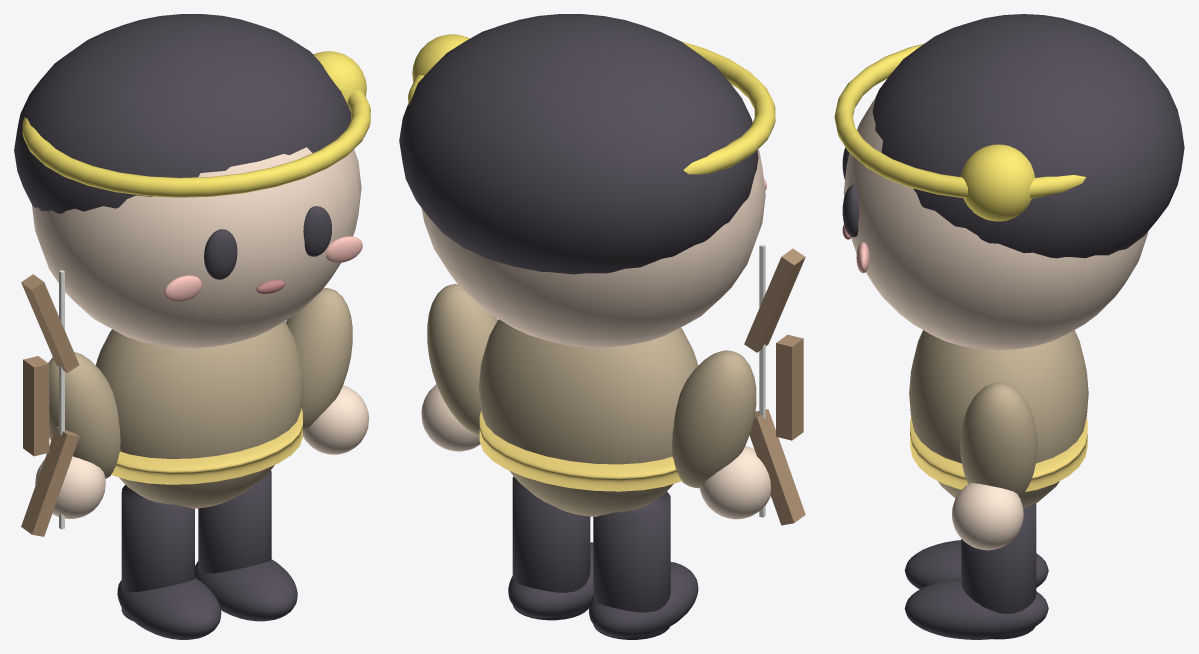
File: yt_archer.fbx
3 views of the same model, side by side, from view 1: azimuth 30°, elevation 25°; view 2: azimuth 150°, elevation 25°; view 3: azimuth 270°, elevation 25° (orthographic). The views are drawn at different scales.
Parts seen in each view (by area): view 1: hair, head_mesh, body, band, leg, arm_mesh, arm_mesh.001, leg.001, belt, shoe, shoe.001, hand_mesh (+10 smaller); view 2: hair, body, head_mesh, arm_mesh.001, leg, leg.001, arm_mesh, belt, band, hand_mesh.001, shoe, wp_bow_bot (+6 smaller); view 3: hair, head_mesh, body, arm_mesh, band, leg.001, shoe.001, knot, hand_mesh, belt, shoe, eye.001.
Boxes of the visible parts, box(x1,y1,x2,y2) form: hair: box(14, 14, 350, 213); head_mesh: box(32, 147, 361, 348); body: box(95, 321, 303, 508); band: box(22, 89, 370, 197); leg: box(121, 485, 194, 621); arm_mesh: box(285, 288, 352, 431); arm_mesh.001: box(48, 352, 120, 478); leg.001: box(198, 470, 271, 573); belt: box(111, 408, 302, 484); shoe: box(117, 578, 221, 639); shoe.001: box(195, 559, 297, 621); hand_mesh: box(303, 385, 368, 454); hair: box(399, 14, 758, 274); body: box(478, 319, 698, 516); head_mesh: box(421, 149, 765, 347); arm_mesh.001: box(672, 350, 756, 488); leg: box(593, 492, 670, 639); leg.001: box(512, 476, 590, 620); arm_mesh: box(427, 284, 497, 435); belt: box(479, 411, 681, 491); band: box(408, 41, 775, 174); hand_mesh.001: box(700, 446, 770, 519); shoe: box(589, 562, 698, 637); wp_bow_bot: box(749, 409, 805, 525); hair: box(872, 14, 1184, 258); head_mesh: box(843, 98, 1148, 350); body: box(909, 330, 1088, 508); arm_mesh: box(960, 382, 1037, 497); band: box(834, 43, 1085, 198); leg.001: box(961, 503, 1036, 639); shoe.001: box(904, 578, 1048, 639); knot: box(960, 144, 1034, 221); hand_mesh: box(951, 483, 1023, 550); belt: box(910, 417, 1087, 491); shoe: box(904, 540, 1048, 589); eye.001: box(842, 185, 859, 237).
Size of the model in its own units: 0.7394 by 1.15 by 0.6318.
